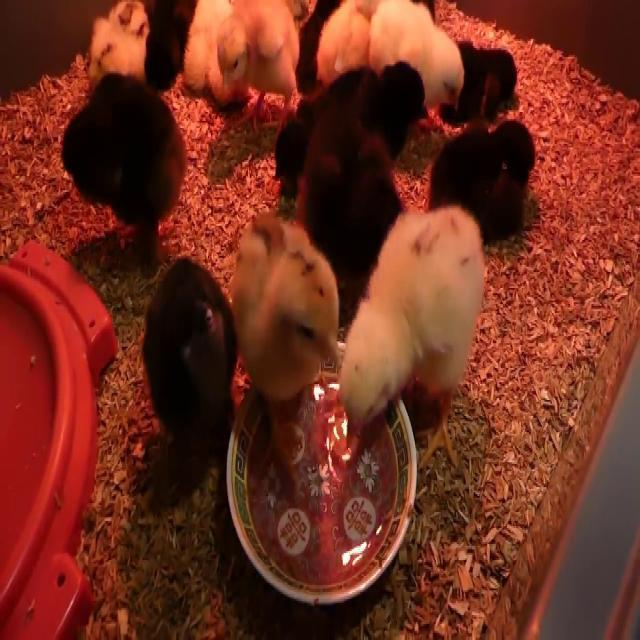poussin: (340, 208, 483, 442), (60, 75, 193, 259), (235, 210, 340, 412), (146, 254, 237, 442), (293, 120, 399, 278), (276, 64, 428, 172), (428, 116, 542, 242), (212, 0, 302, 144), (373, 5, 469, 118), (445, 42, 525, 126), (315, 0, 383, 86), (183, 0, 233, 105), (87, 0, 148, 85)
